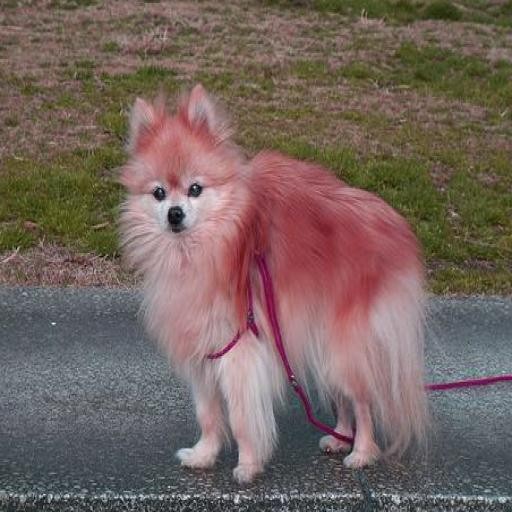dog_face: (123, 92, 221, 229)
